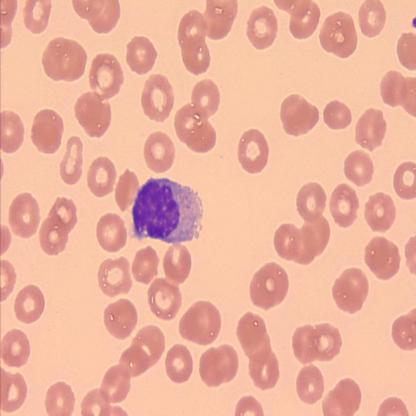Atypical lymphocyte: (126, 172, 210, 253)
